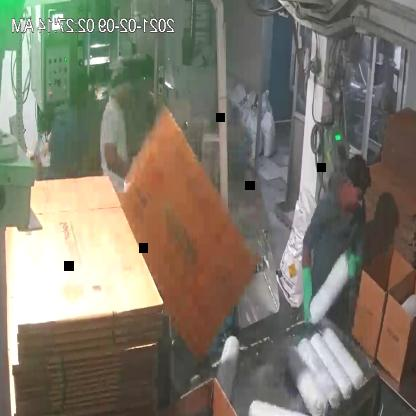glove: (296, 253, 320, 332), (340, 242, 366, 282)
